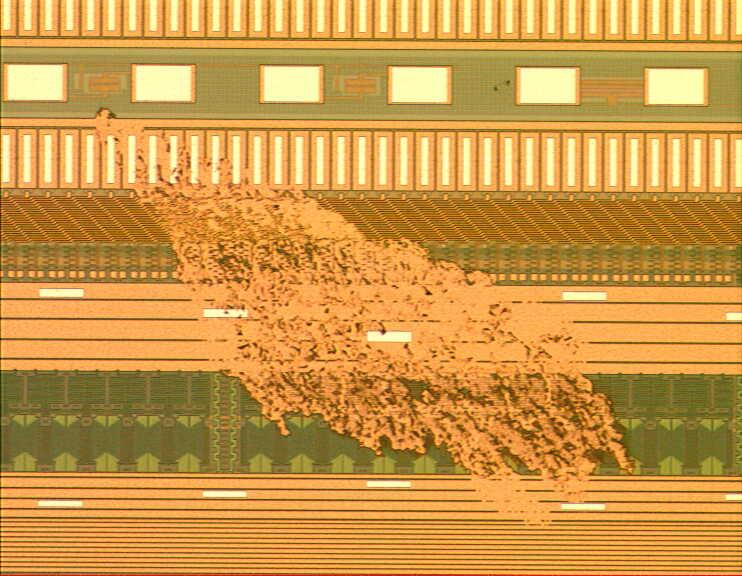BLOCK ETCH: (93, 106, 645, 537)
